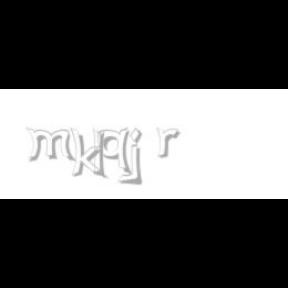j: (128, 128, 156, 186)
k: (70, 128, 108, 180)
l: (93, 128, 109, 180)
m: (25, 128, 77, 162)
q: (97, 128, 133, 176)
r: (156, 128, 182, 158)
